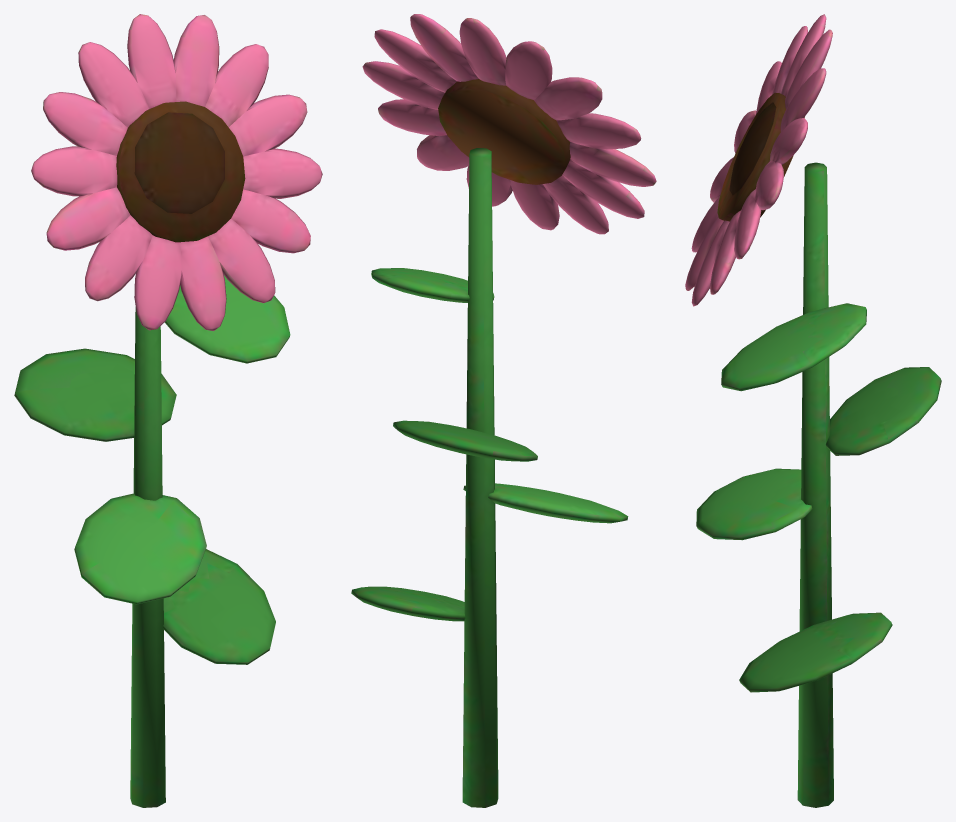
The model's file is crop_peony.glb.
3 views of the same model, side by side, from view 1: azimuth 30°, elevation 25°; view 2: azimuth 150°, elevation 25°; view 3: azimuth 270°, elevation 25° (orthographic). The views are drawn at different scales.
Parts seen in each view (by area): view 1: crop_peony, fruit; view 2: crop_peony, fruit; view 3: crop_peony, fruit.
Part boxes in pixels (left/top/right/bottom): crop_peony: left=14, top=101, right=290, bottom=807; fruit: left=31, top=14, right=322, bottom=331; crop_peony: left=351, top=79, right=628, bottom=807; fruit: left=362, top=14, right=656, bottom=234; crop_peony: left=696, top=92, right=941, bottom=807; fruit: left=685, top=14, right=832, bottom=306.
Size of the model in its own units: 0.2242 by 0.6079 by 0.1837.
1 material, 1 textured.
